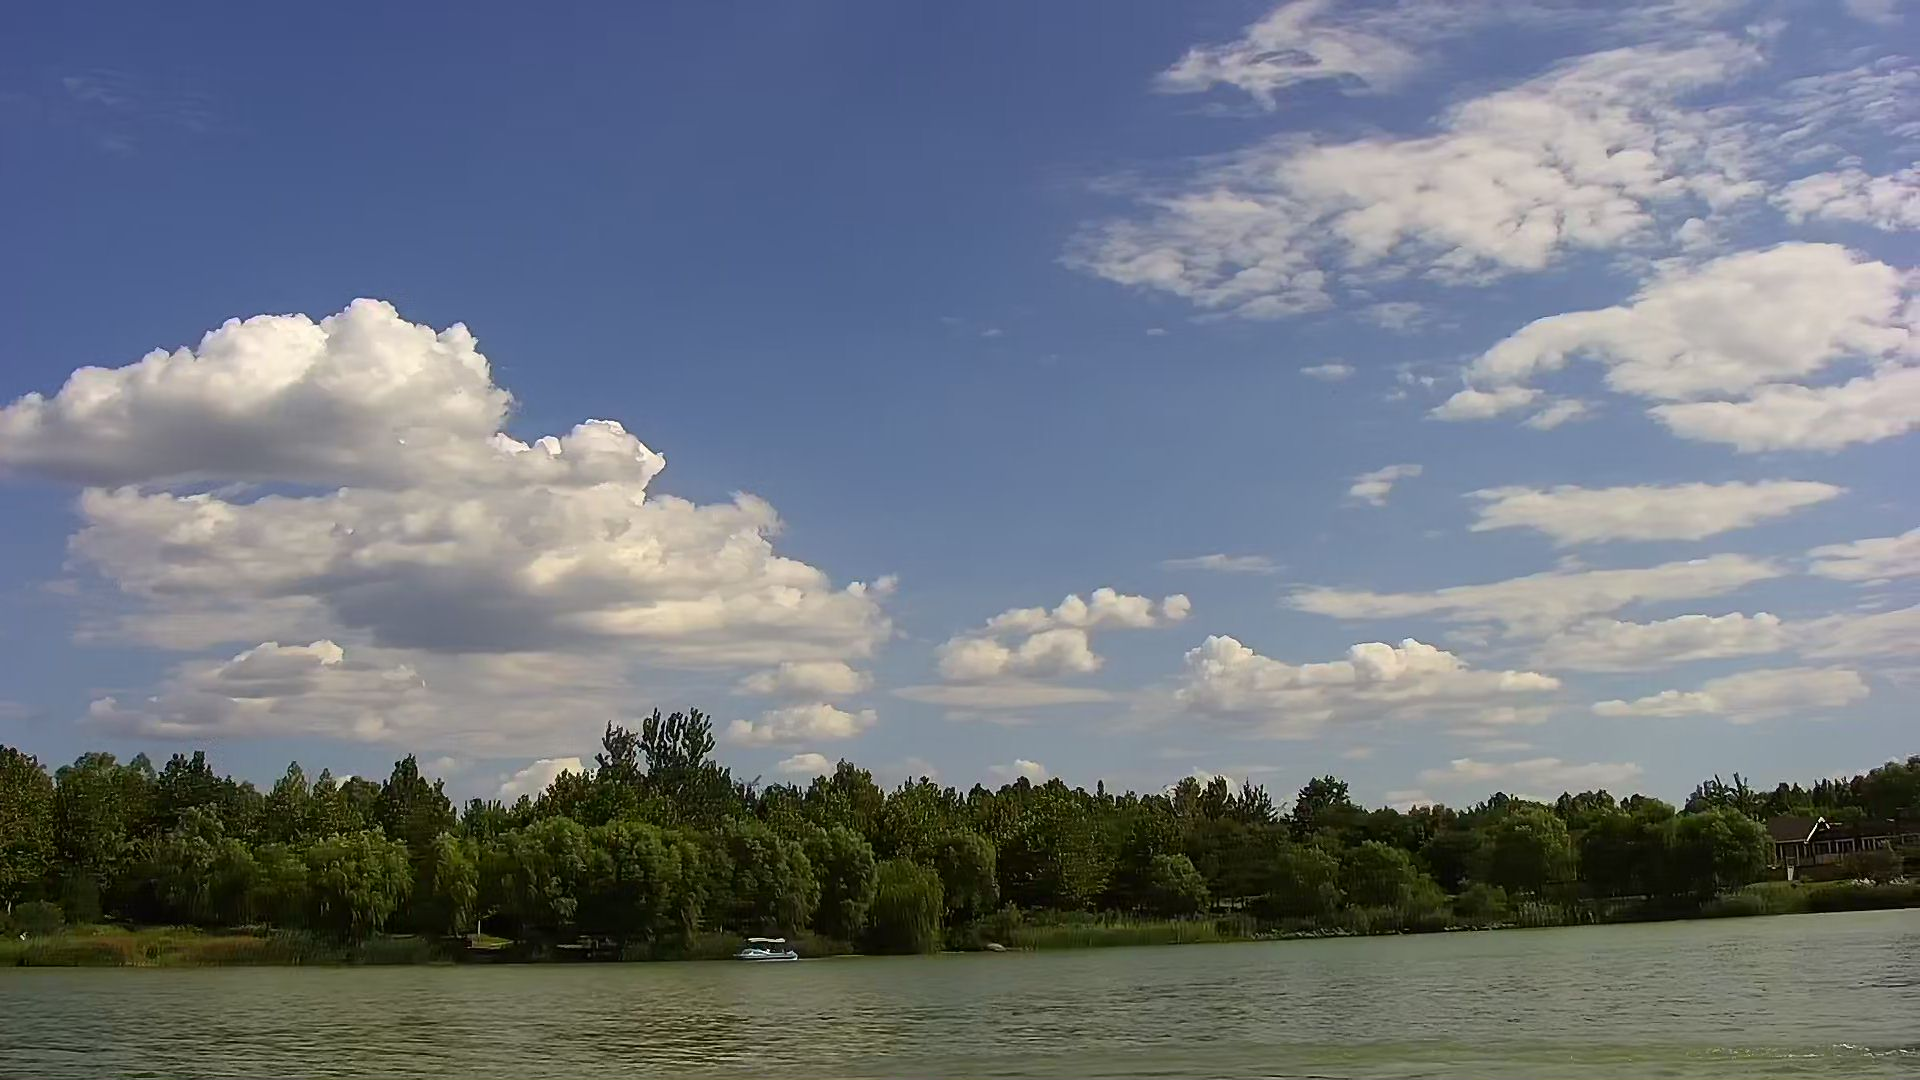boat: (731, 934, 800, 967)
